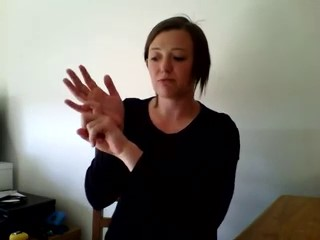R: (62, 62, 127, 157)
